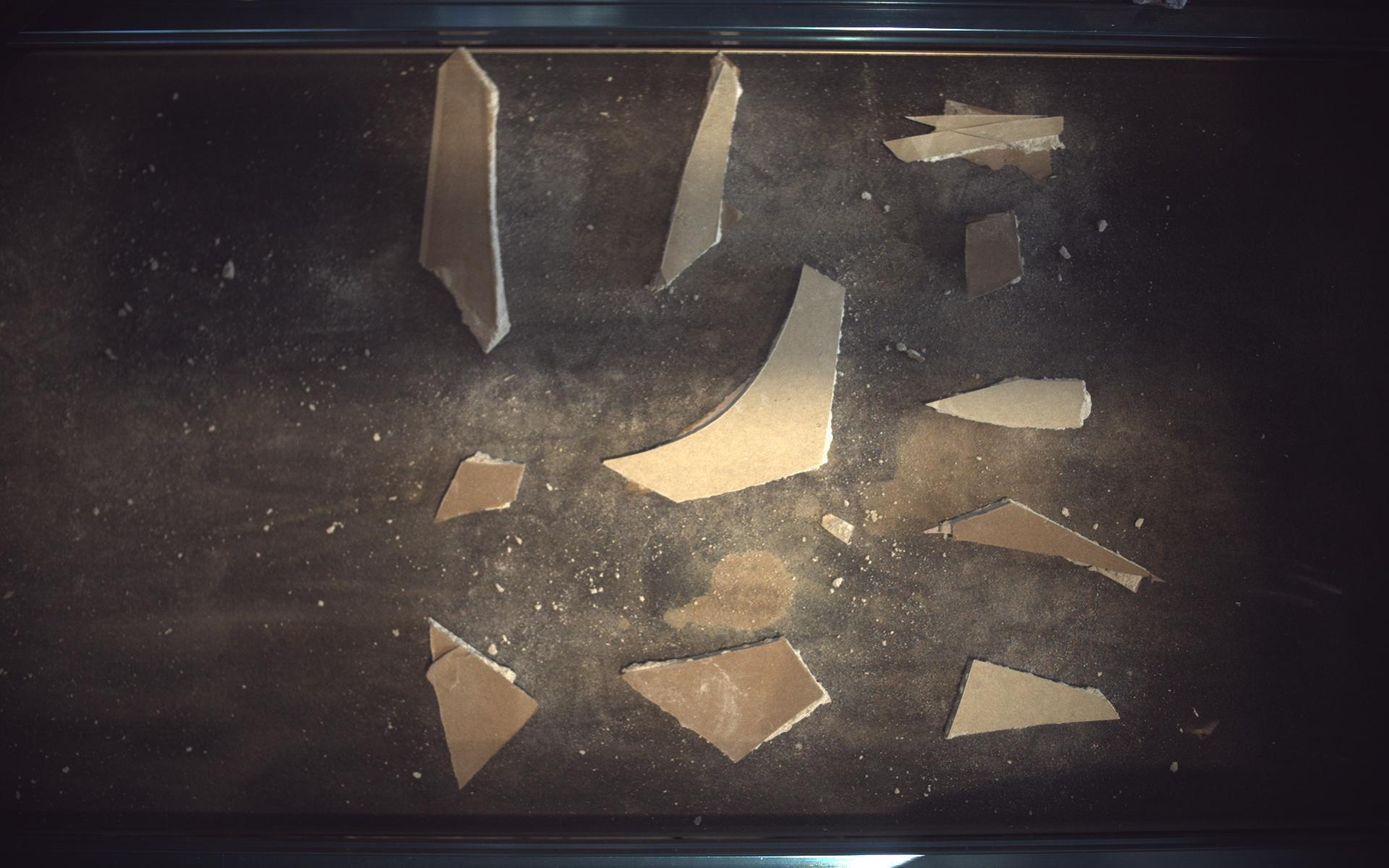gypsum_board: (604, 265, 847, 503), (420, 46, 511, 353), (622, 637, 831, 764), (648, 51, 743, 291), (927, 499, 1164, 592), (426, 618, 539, 790), (886, 99, 1066, 179), (948, 660, 1122, 740), (928, 377, 1094, 430), (435, 452, 525, 522), (967, 210, 1025, 300)
